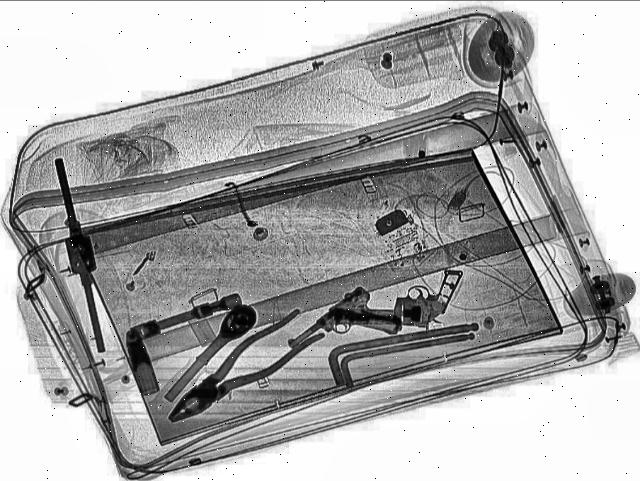Gun: (286, 284, 416, 376), (326, 268, 466, 326)
Pliers: (148, 304, 334, 432)
